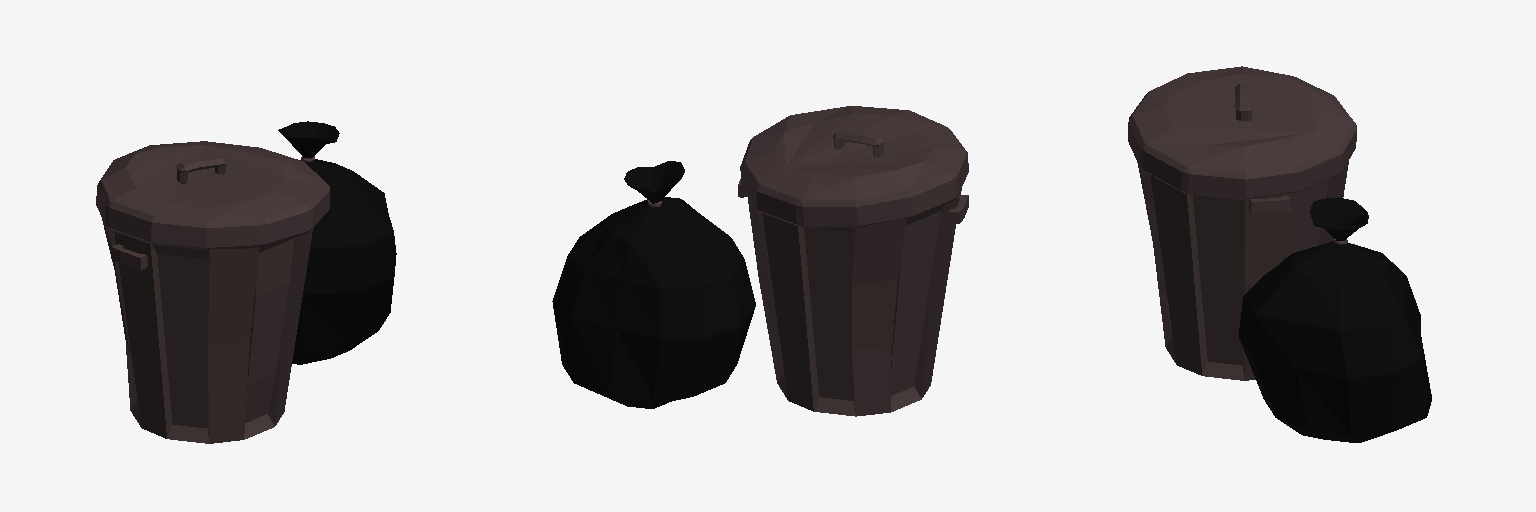
File: botebasura.obj
3 renders of one model, left to right at view 1: azimuth 30°, elevation 25°; view 2: azimuth 150°, elevation 25°; view 3: azimuth 270°, elevation 25°, orthographic.
Visible parts, largest first — view 1: Cylinder.596_Cylinder.493, Cube.1543_Cube.9033, Cylinder.597_Cylinder.494; view 2: Cylinder.597_Cylinder.494, Cylinder.596_Cylinder.493, Cube.1543_Cube.9033; view 3: Cylinder.597_Cylinder.494, Cube.1543_Cube.9033, Cylinder.596_Cylinder.493.
Part boxes in pixels (x1,y1,x2,y2): Cylinder.596_Cylinder.493: (102, 219, 312, 443); Cube.1543_Cube.9033: (96, 141, 329, 250); Cylinder.597_Cylinder.494: (278, 121, 396, 364); Cylinder.597_Cylinder.494: (552, 161, 755, 408); Cylinder.596_Cylinder.493: (738, 179, 968, 416); Cube.1543_Cube.9033: (740, 106, 968, 228); Cylinder.597_Cylinder.494: (1239, 198, 1431, 442); Cube.1543_Cube.9033: (1128, 66, 1356, 199); Cylinder.596_Cylinder.493: (1137, 161, 1348, 380).
Bounding box in the file's own units: 1.5 × 1.09 × 1.17.